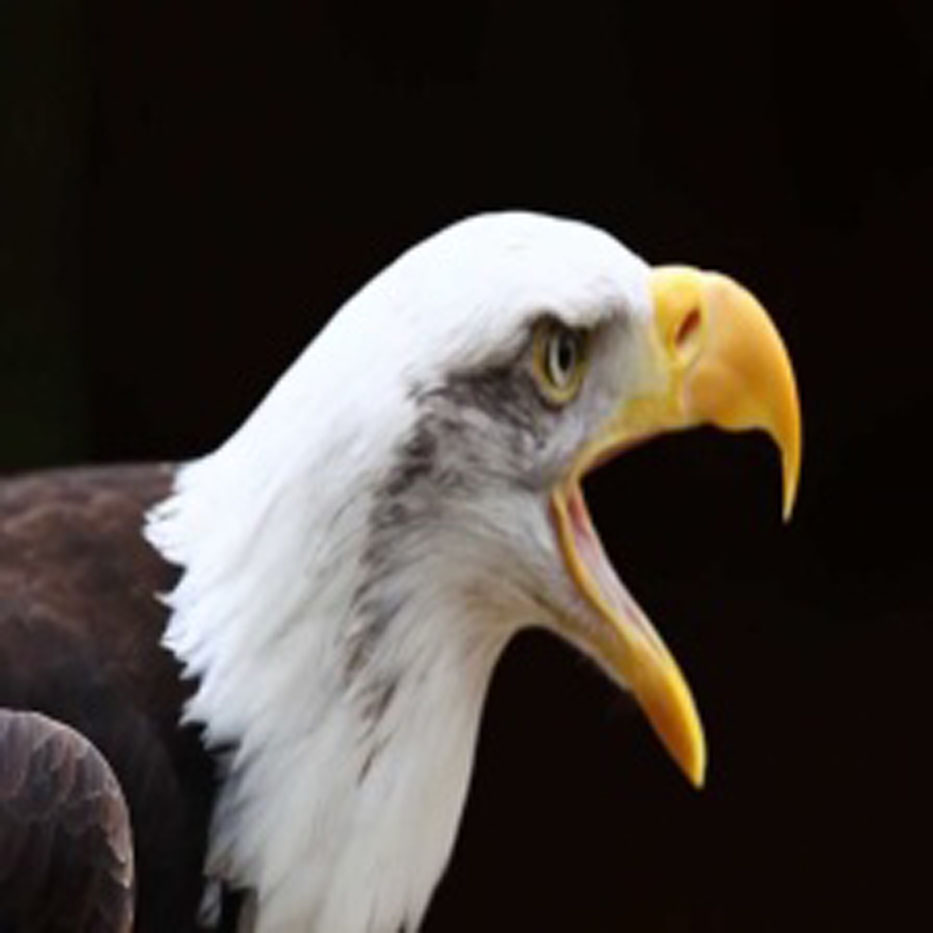Pengoyak Daging: (636, 230, 833, 802)
